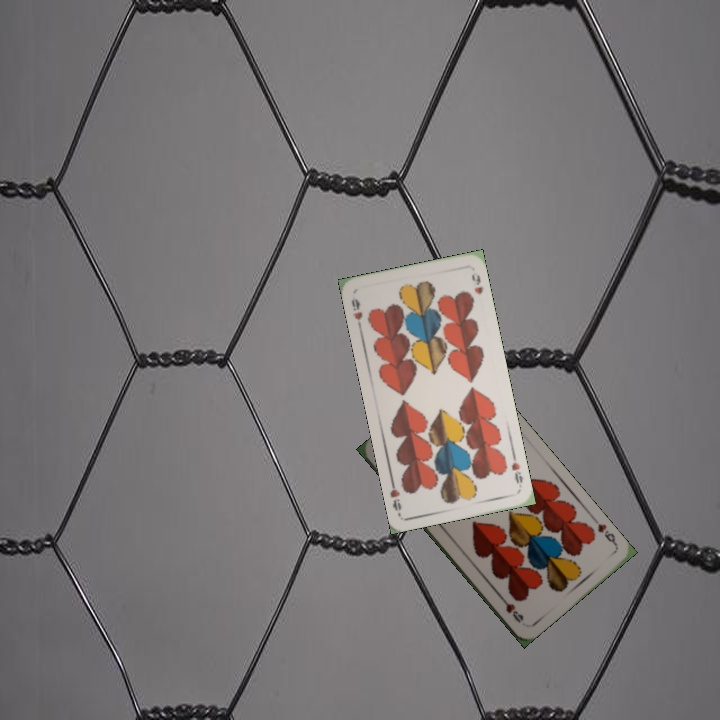H9: (590, 515, 620, 549), (347, 293, 365, 332), (507, 450, 526, 486)
